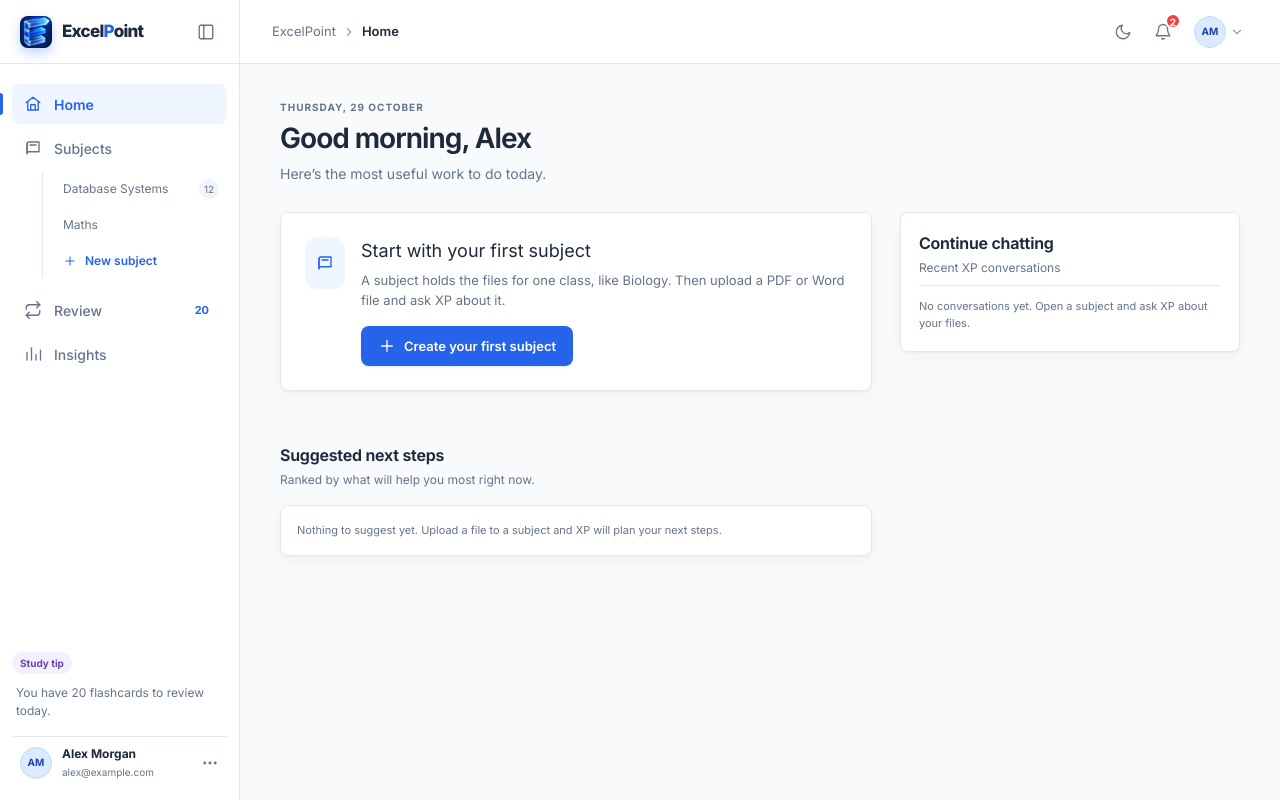
Shell › collapses the sidebar and remembers it
What coordinates should you click on to do the following:
click the button named "Collapse sidebar"
I would click on:
 (206, 32)
Its box is [189,14,223,48].
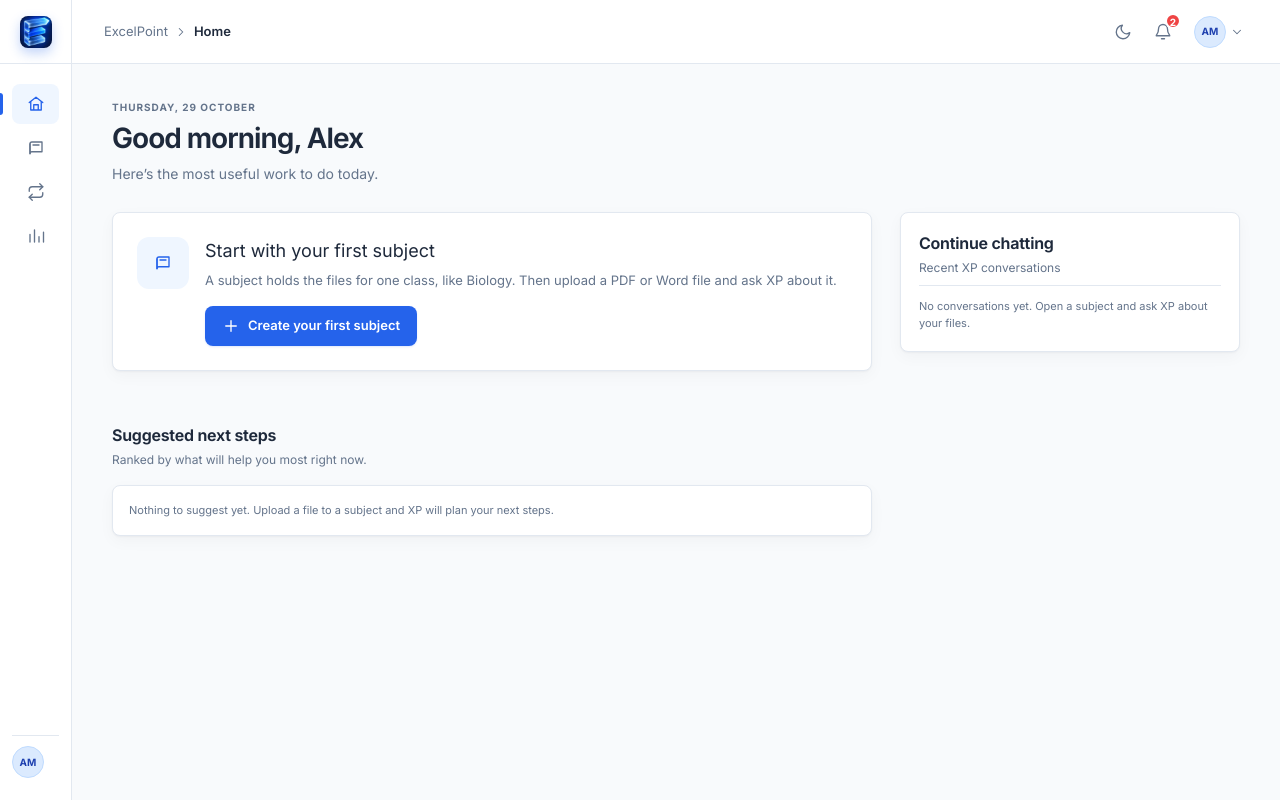
Expected: the link "Database Systems" is gone
What coordinates should you click on to do the following:
click the button named "Expand sidebar"
I would click on:
 (36, 32)
Its box is [20,16,52,48].
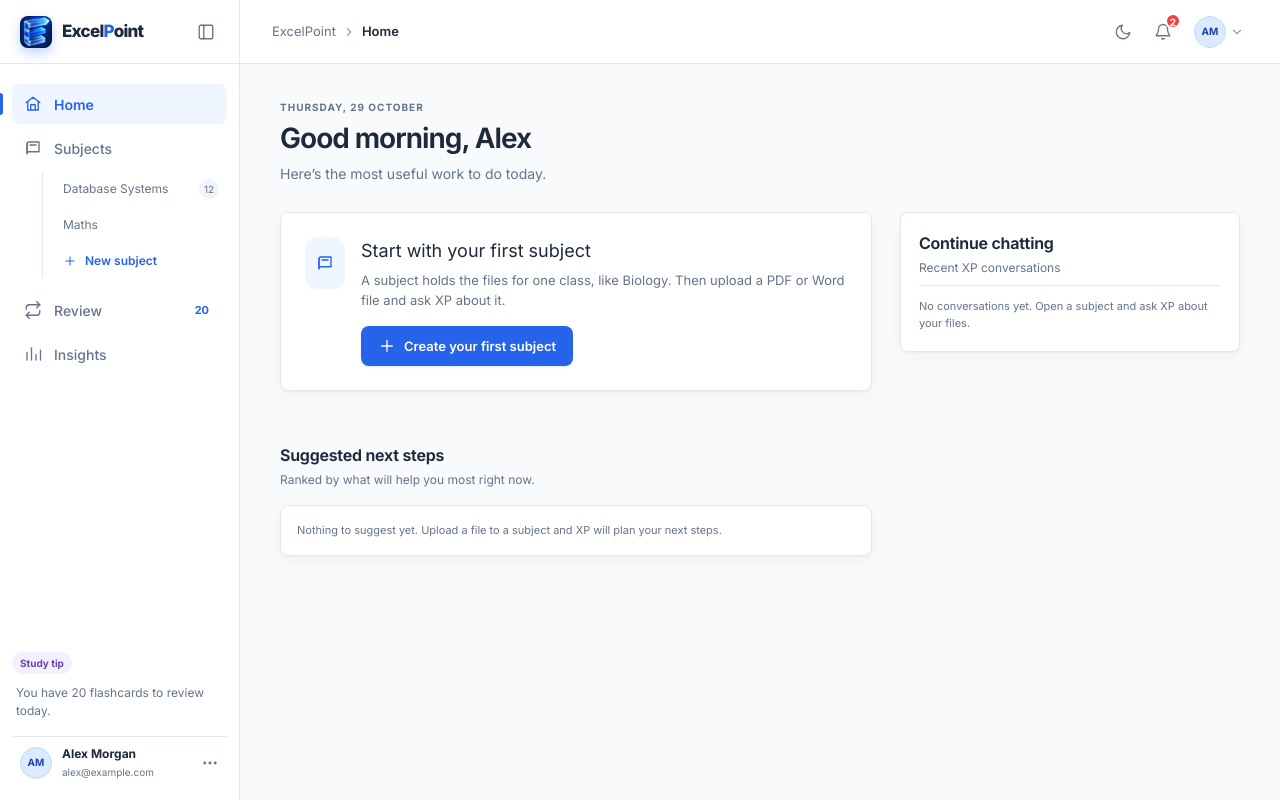
Expected: the text "Database Systems" is shown, [63,181,168,196]
